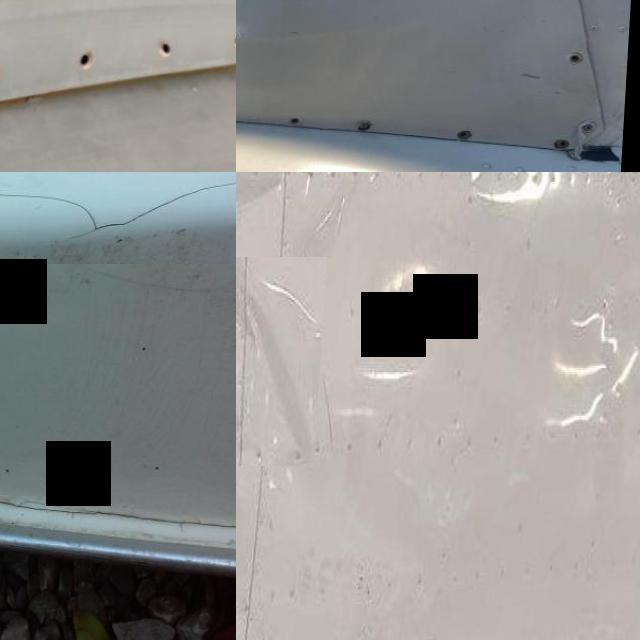Crack: (0, 177, 236, 245), (0, 490, 236, 536)
Dent: (236, 271, 320, 466)
Missing_Fastener: (145, 24, 195, 69), (64, 36, 112, 80), (0, 51, 17, 96), (225, 23, 236, 56), (558, 139, 580, 150), (461, 130, 478, 142), (572, 53, 588, 62), (294, 117, 308, 126)
